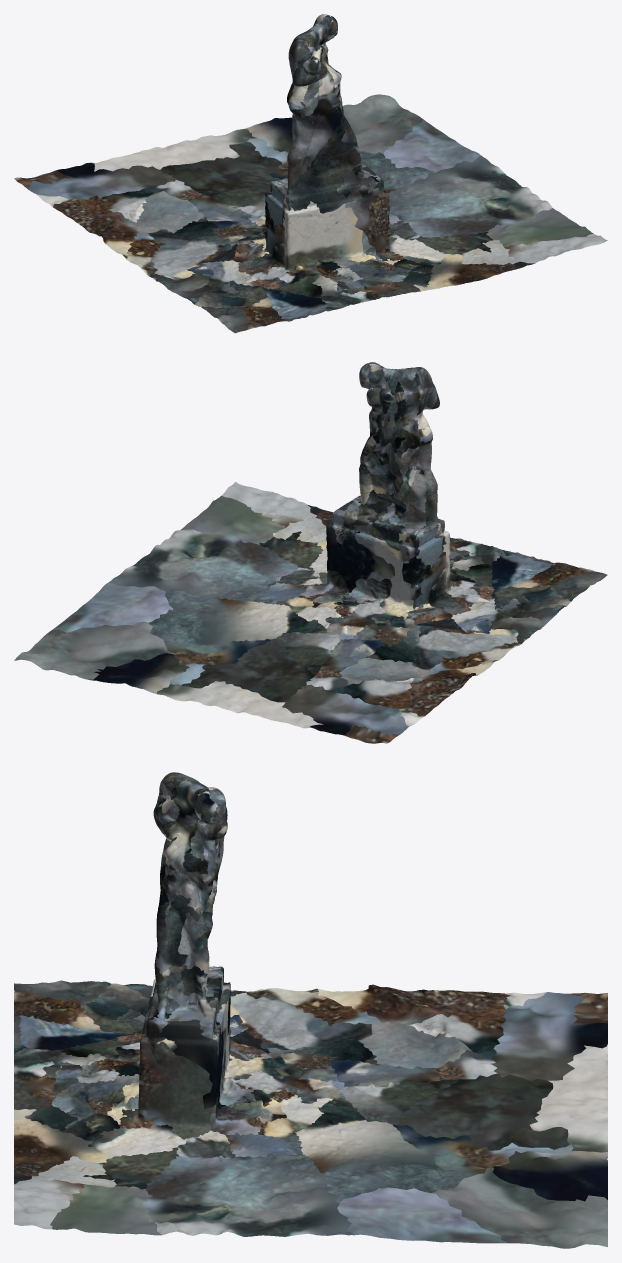
Rendered from the_kiss.obj.
3 views of the same model, one above another, from view 1: azimuth 30°, elevation 25°; view 2: azimuth 150°, elevation 25°; view 3: azimuth 270°, elevation 25° (orthographic). The views are drawn at different scales.
Parts seen in each view (by area): view 1: Object; view 2: Object; view 3: Object.
Part boxes in pixels (x1=…): Object: x1=14, y1=14, x2=607, y2=333; Object: x1=14, y1=362, x2=607, y2=743; Object: x1=14, y1=772, x2=607, y2=1248.
Bounding box in the file's own units: 2.74 × 1.71 × 2.82.
